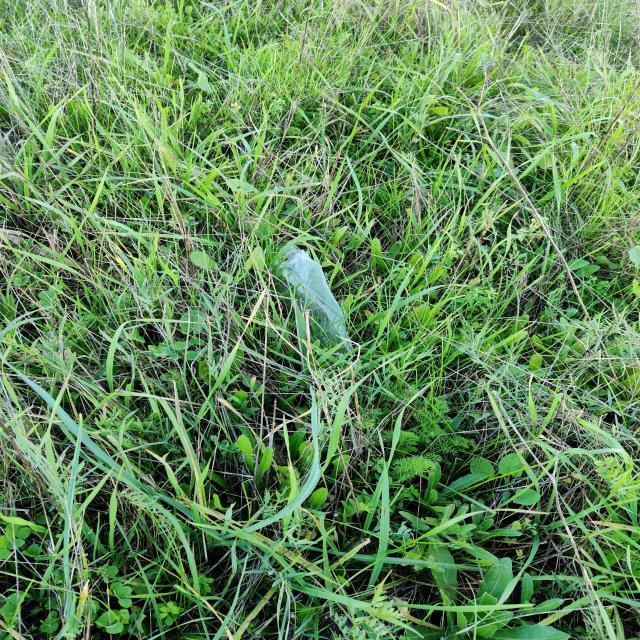litter: (283, 249, 352, 344)
